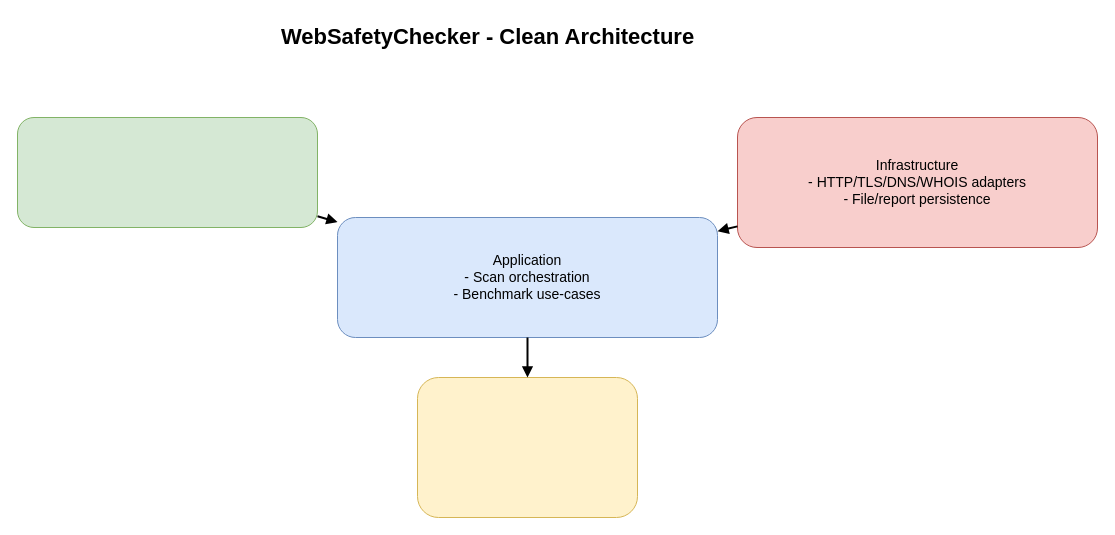
Image size: 1115x535. Some labels were removed from this diagram. The box of each missing label's shape, as (x1, y1, x2, y2) in pixels:
Domain - Scoring rules - Risk model - Verdict policy: (416, 376, 638, 518)
Presentation - CLI - Terminal/Markdown output: (16, 116, 318, 228)
